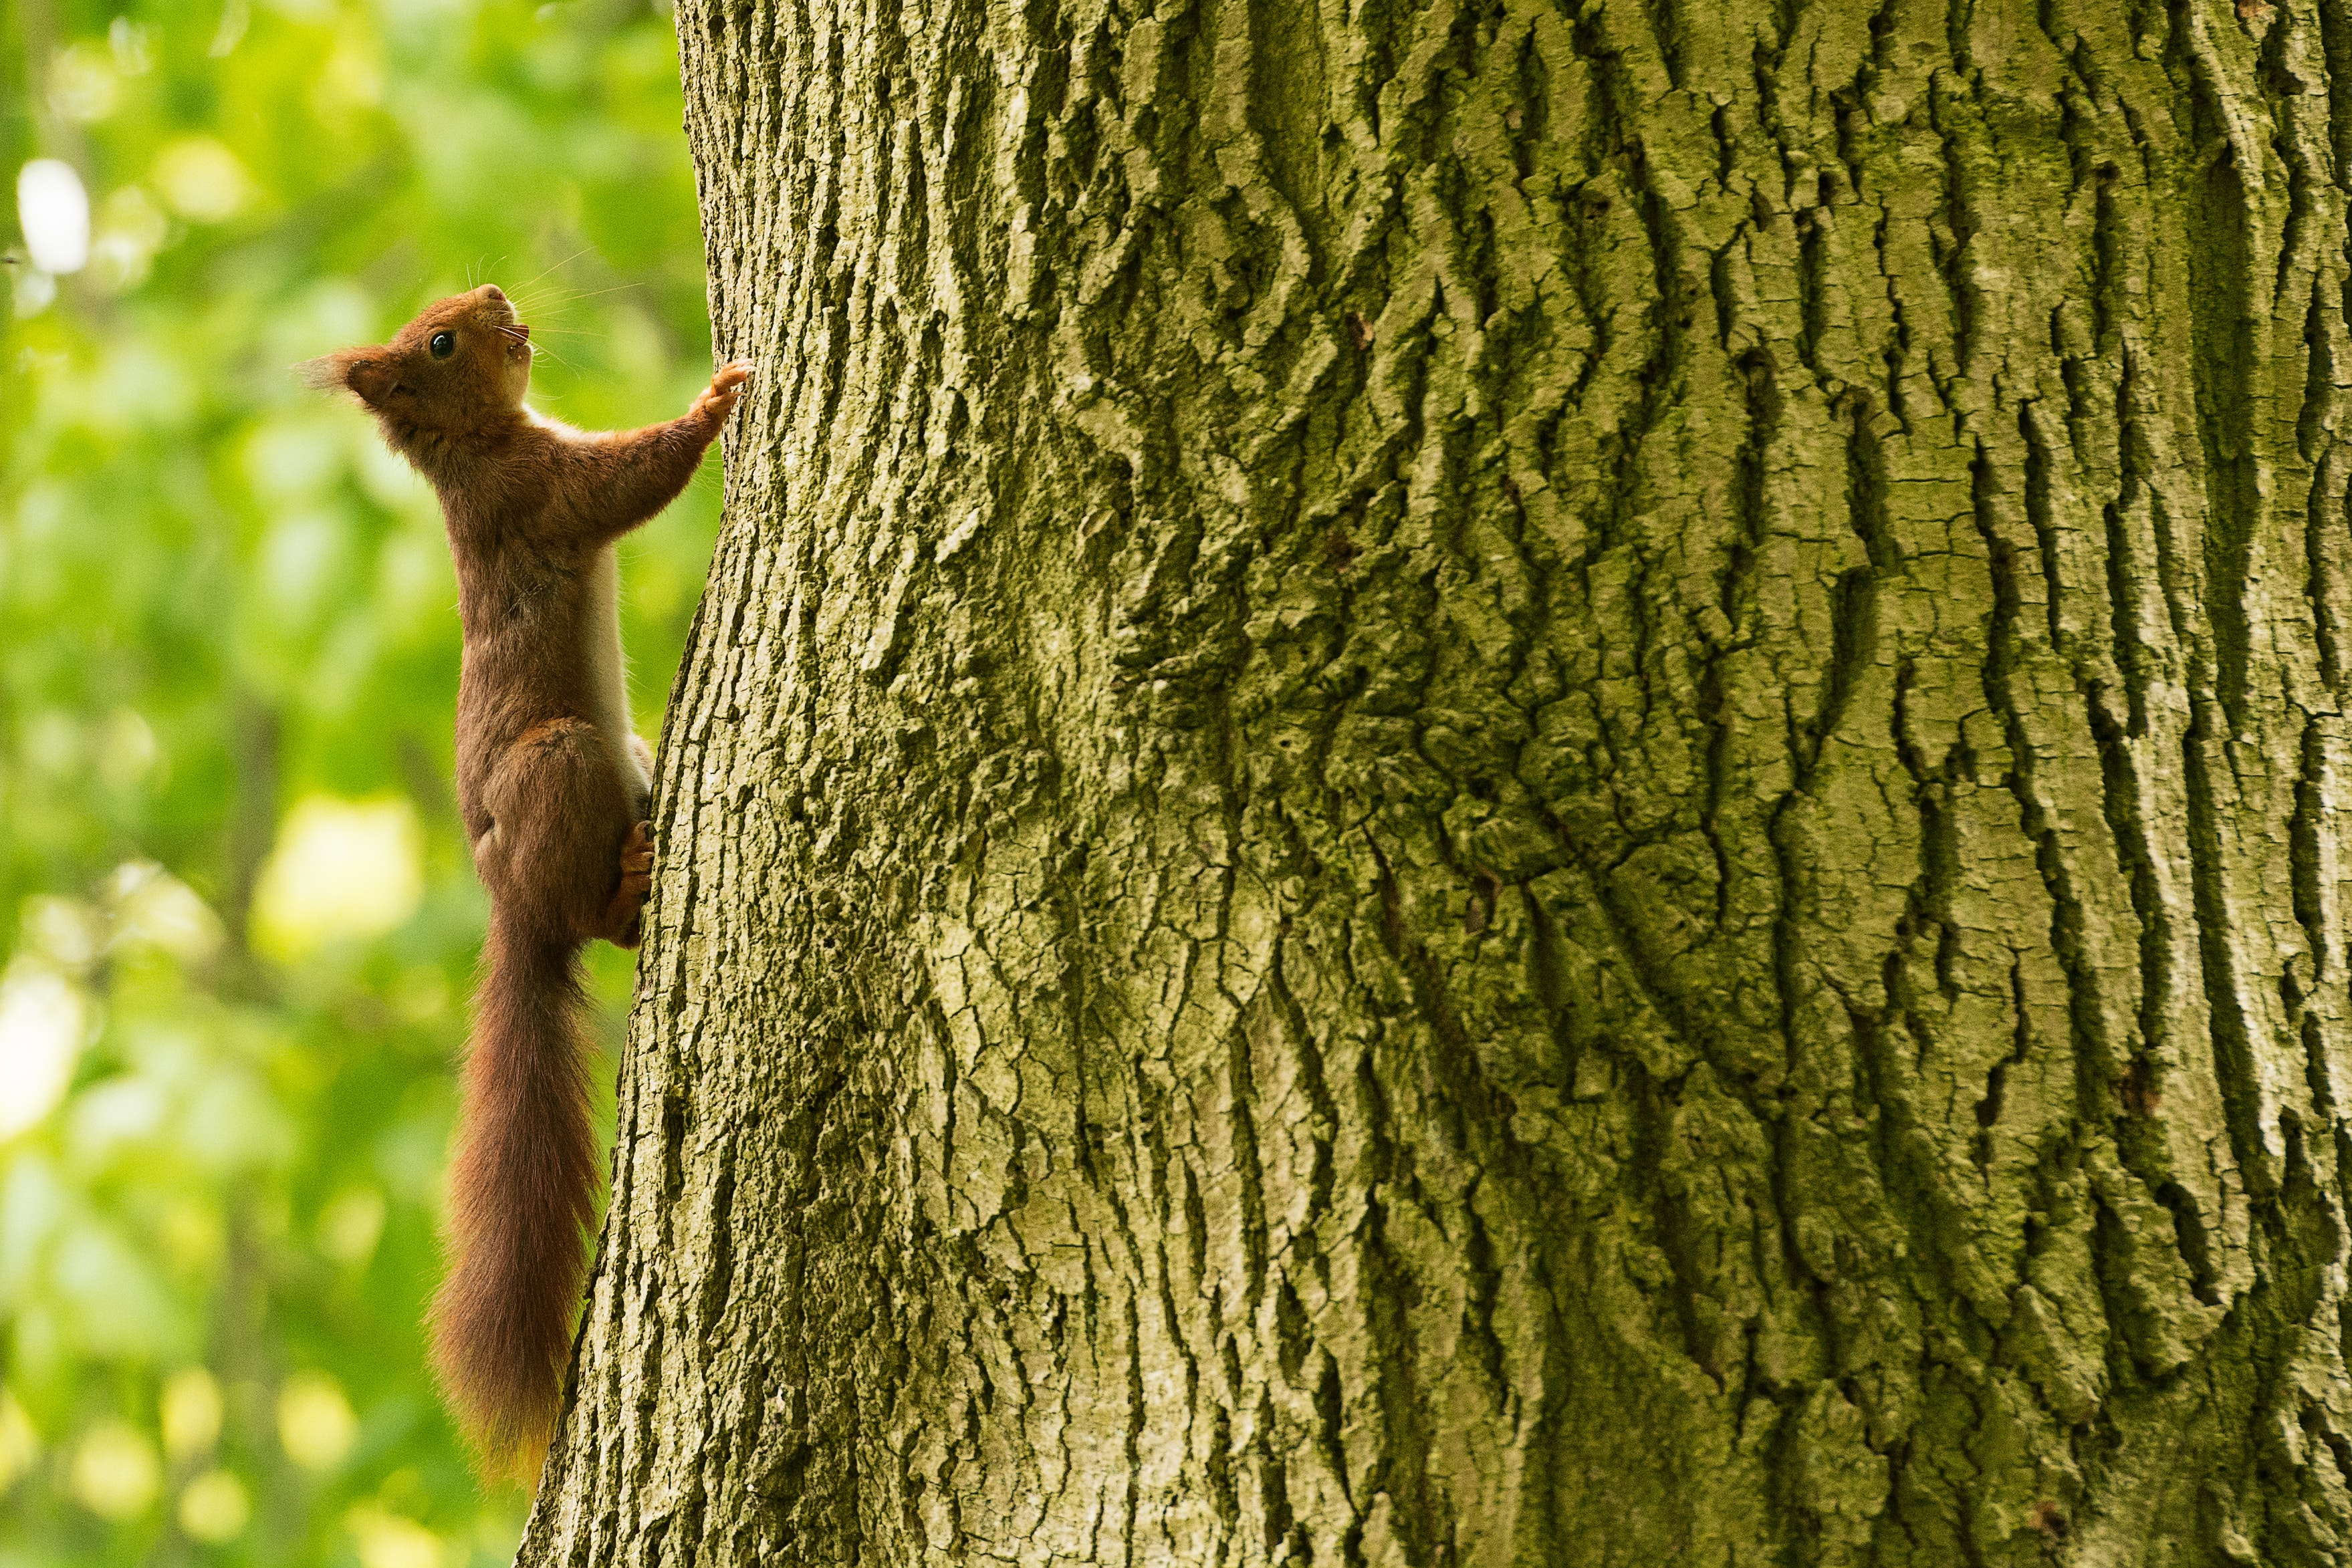squirrel: (294, 262, 759, 1472)
